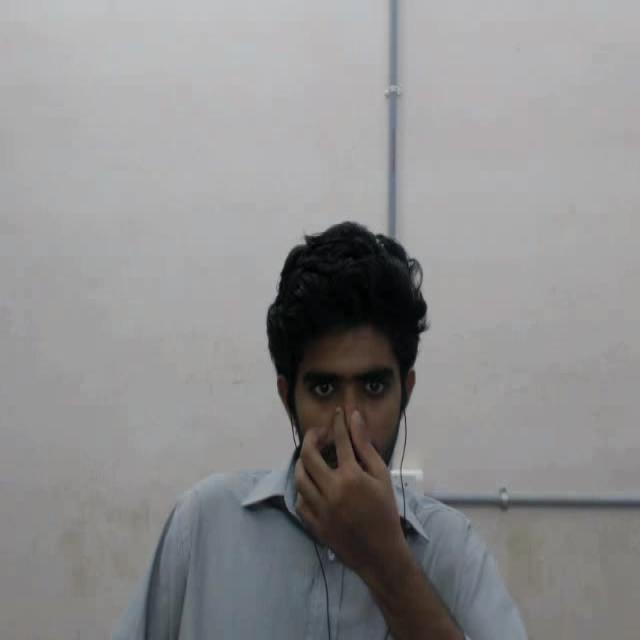Bored: (241, 191, 444, 528)
